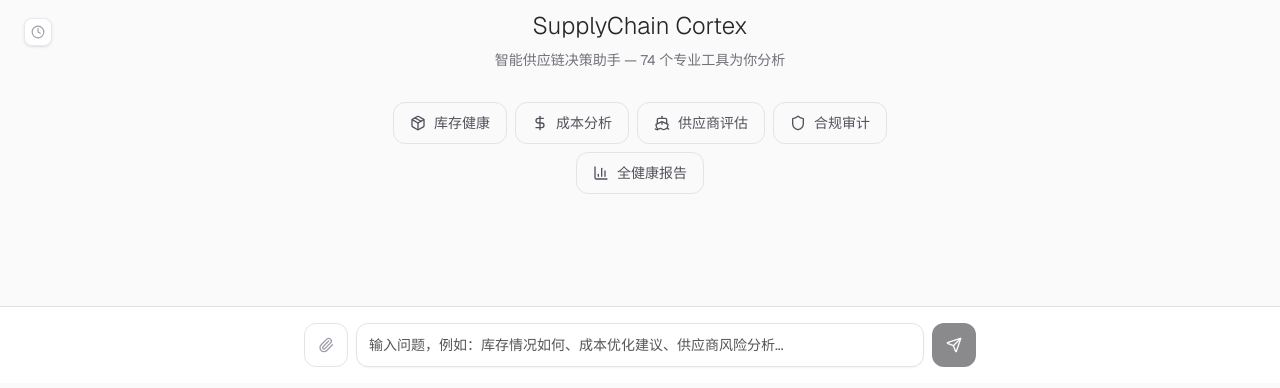
Test: ChatPanel › enables send button after typing text
In the field with test id "chat-input": (640, 345) [356,323,924,367], type "库存情况如何"
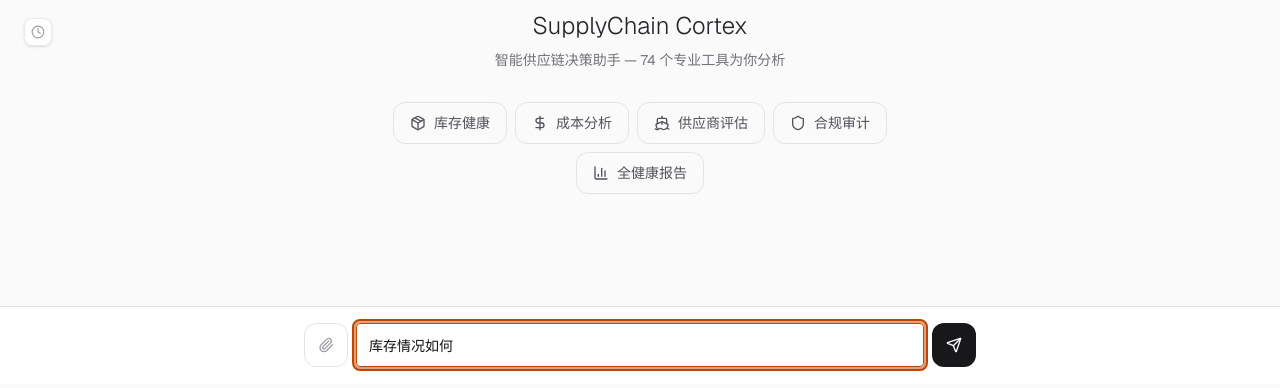
Expected: the 8th button is enabled, [932,323,976,367]
